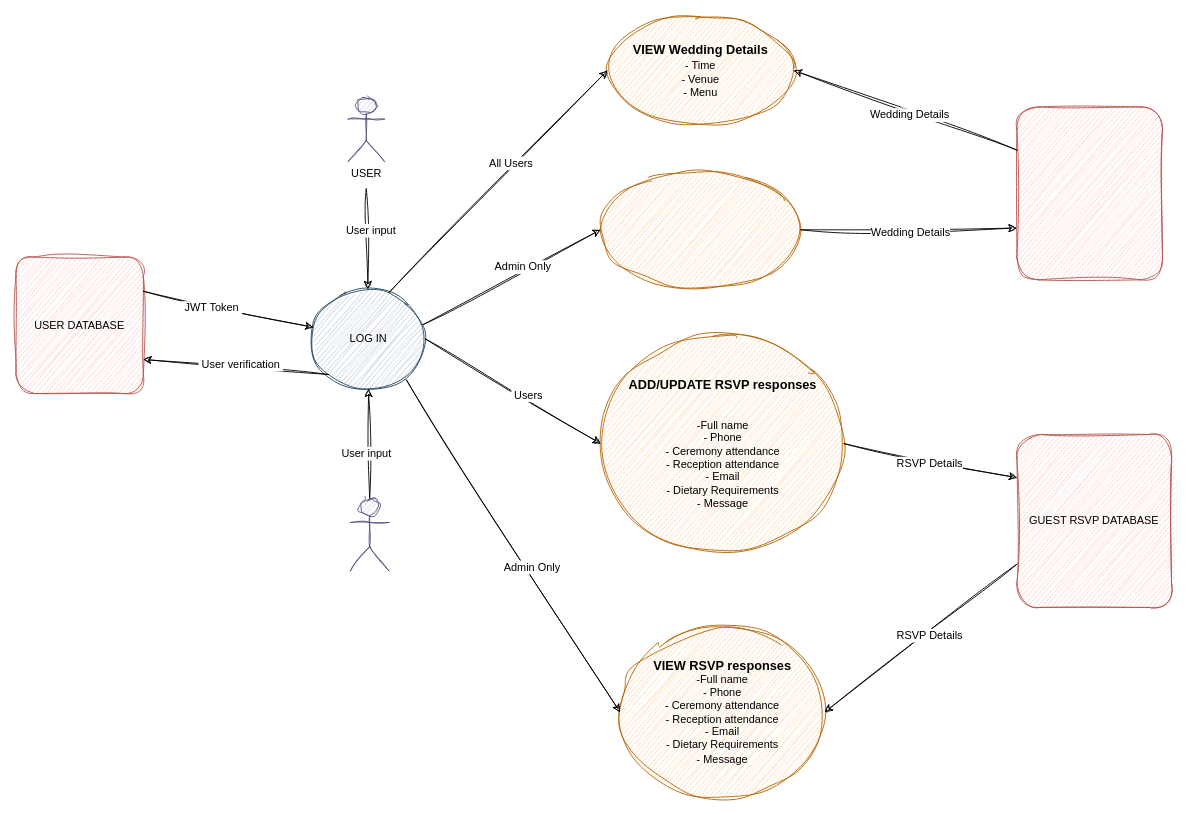
Some shapes in this 1188 by 814 pixel diagram are drawn without their labels. The centre of each missing label's shape, as x and y in pixels:
"ADMIN" belongs at point 369,534.
"UPDATE Wedding Details - Time - Venue - Menu" belongs at point 700,229.
"WEDDING DETAILS DATABASE" belongs at point 1089,193.
